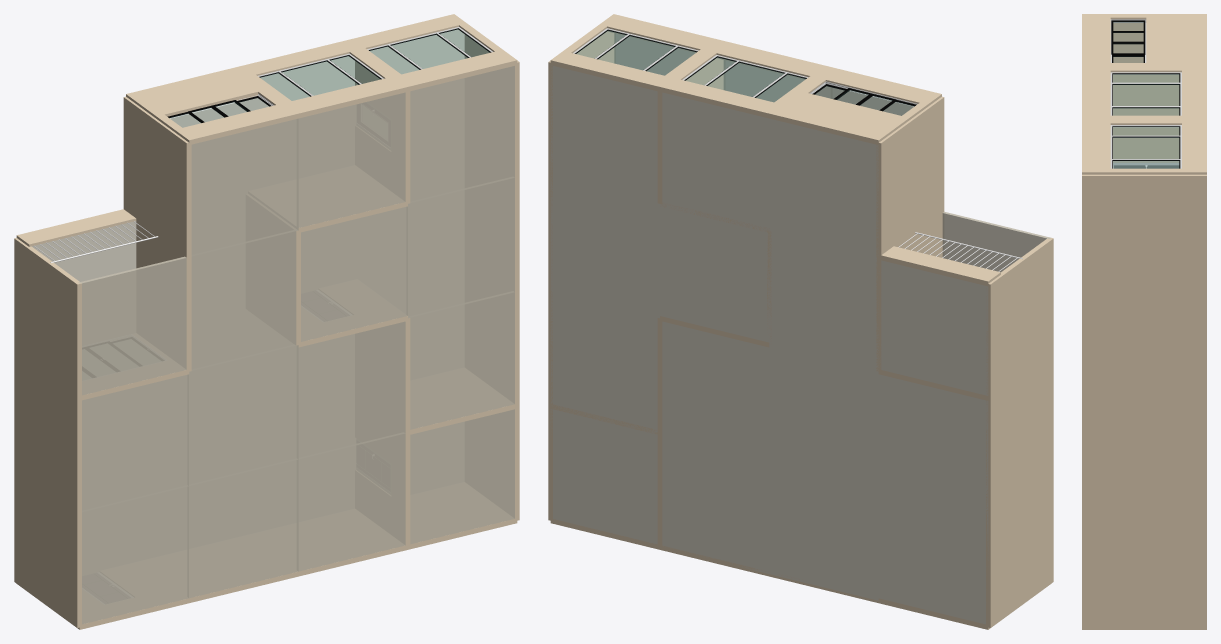
File: Neighbour05.gltf
The picture shows the model from 3 angles, left to right: view 1: azimuth 30°, elevation 25°; view 2: azimuth 150°, elevation 25°; view 3: azimuth 270°, elevation 25°; orthographic projection.
Visible parts, largest first — view 1: ceiling_5, ceiling_2, ceiling_8, ceiling_13, ceiling_1, ceiling_12, ceiling_6, ceiling_3, ceiling_4, ceiling_14, ceiling_10, ceiling_7 (+22 smaller); view 2: floor_2, floor_5, floor_8, floor_13, floor_4, floor_11, floor_12, floor_7, floor_1, floor_3, floor_6, floor_10 (+22 smaller); view 3: wall_8, wall, wall_6, wall_7, SIP_2, SIP, SIP_1, wall_9, Glass, Glass_1, SIP_7, WindowFrame (+8 smaller).
Boxes of the visible parts, left/top/right/bottom form: ceiling_5: left=189, top=345, right=298, bottom=486; ceiling_2: left=189, top=459, right=298, bottom=598; ceiling_8: left=408, top=178, right=514, bottom=318; ceiling_13: left=191, top=231, right=296, bottom=370; ceiling_1: left=298, top=433, right=405, bottom=571; ceiling_12: left=191, top=118, right=298, bottom=256; ceiling_6: left=298, top=321, right=405, bottom=459; ceiling_3: left=82, top=486, right=188, bottom=624; ceiling_4: left=82, top=374, right=188, bottom=512; ceiling_14: left=78, top=256, right=186, bottom=395; ceiling_10: left=298, top=92, right=405, bottom=227; ceiling_7: left=410, top=292, right=514, bottom=429; floor_2: left=769, top=459, right=878, bottom=600; floor_5: left=769, top=345, right=878, bottom=485; floor_8: left=550, top=177, right=659, bottom=318; floor_13: left=769, top=231, right=878, bottom=371; floor_4: left=878, top=374, right=988, bottom=512; floor_11: left=660, top=204, right=769, bottom=342; floor_12: left=769, top=118, right=878, bottom=256; floor_7: left=550, top=292, right=657, bottom=432; floor_1: left=662, top=433, right=769, bottom=573; floor_3: left=878, top=486, right=988, bottom=624; floor_6: left=662, top=321, right=769, bottom=459; floor_10: left=662, top=92, right=769, bottom=230; wall_8: left=1082, top=174, right=1206, bottom=288; wall: left=1082, top=515, right=1206, bottom=628; wall_6: left=1082, top=402, right=1206, bottom=515; wall_7: left=1082, top=289, right=1206, bottom=402; SIP_2: left=1082, top=14, right=1206, bottom=66; SIP: left=1082, top=119, right=1206, bottom=174; SIP_1: left=1082, top=66, right=1206, bottom=119; wall_9: left=1113, top=23, right=1179, bottom=115; Glass: left=1113, top=127, right=1178, bottom=167; Glass_1: left=1113, top=74, right=1178, bottom=114; SIP_7: left=1113, top=128, right=1179, bottom=162; WindowFrame: left=1110, top=125, right=1181, bottom=168.
Size of the model in its own units: 14.15 by 14.15 by 3.5.
